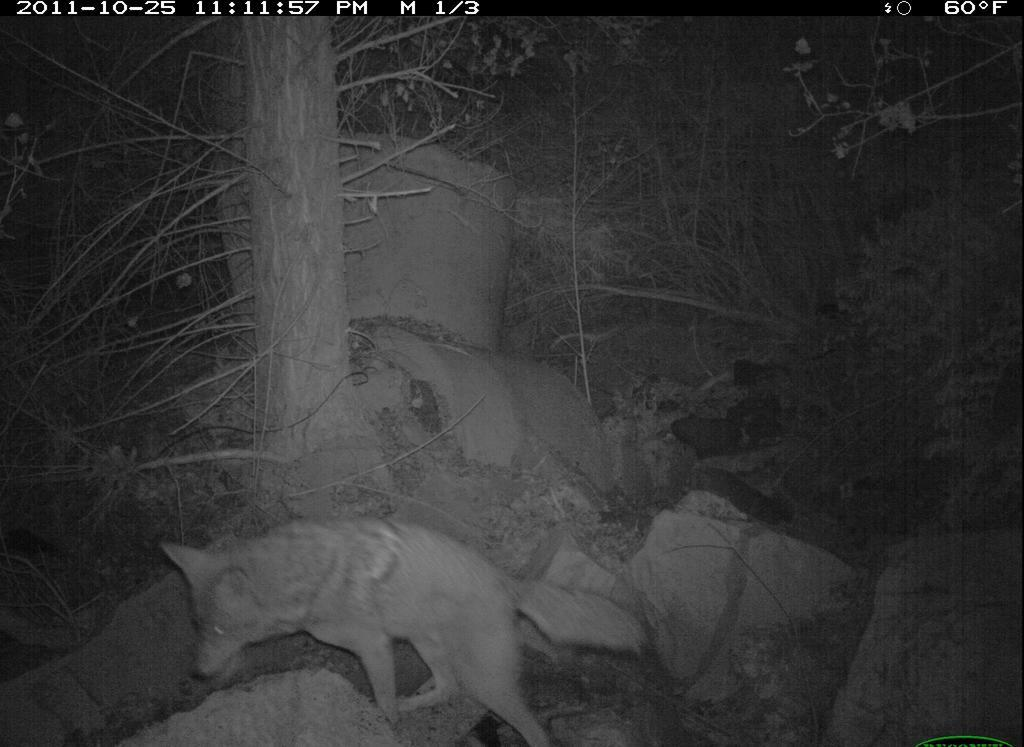coyote: (155, 513, 552, 740)
